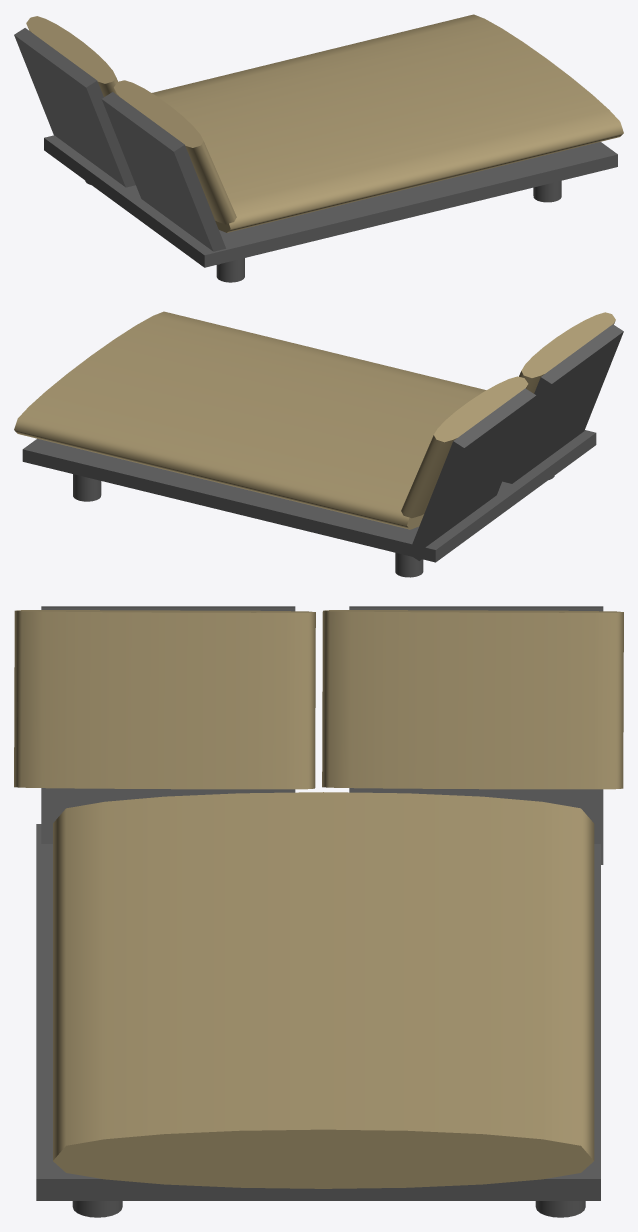
File: Bed.fbx
The picture shows the model from 3 angles, top to bottom: view 1: azimuth 30°, elevation 25°; view 2: azimuth 150°, elevation 25°; view 3: azimuth 270°, elevation 25°; orthographic projection. The views are drawn at different scales.
Visible parts, largest first — view 1: pasted__pasted__pCylinder1 (×2), pCube1, pasted__pCube1, pasted__pasted__pCube1, pasted__pasted__pasted__pCylinder1, pasted__pasted__pasted__pCylinder2, pasted__pasted__pCylinder2; view 2: pasted__pasted__pCylinder1 (×2), pCube1, pasted__pasted__pCube1, pasted__pCube1, pasted__pasted__pasted__pCylinder1, pasted__pCylinder2, pasted__pasted__pCylinder2; view 3: pasted__pasted__pCylinder1 (×2), pasted__pasted__pasted__pCylinder1, pCube1, pasted__pCube1, pasted__pasted__pCube1.
Boxes of the visible parts, box(x1,y1,x2,y2) form: pasted__pasted__pCylinder1 (×2): box(114, 14, 623, 232); pCube1: box(44, 135, 617, 267); pasted__pCube1: box(101, 92, 225, 264); pasted__pasted__pCube1: box(14, 28, 135, 187); pasted__pasted__pasted__pCylinder1: box(26, 16, 117, 96); pasted__pasted__pasted__pCylinder2: box(216, 258, 244, 282); pasted__pasted__pCylinder2: box(533, 180, 561, 202); pasted__pasted__pCylinder1 (×2): box(14, 311, 615, 529); pCube1: box(22, 430, 596, 562); pasted__pasted__pCube1: box(408, 388, 536, 560); pasted__pCube1: box(502, 324, 623, 483); pasted__pasted__pasted__pCylinder1: box(401, 376, 528, 518); pasted__pCylinder2: box(73, 474, 101, 501); pasted__pasted__pCylinder2: box(395, 552, 423, 577); pasted__pasted__pCylinder1 (×2): box(14, 610, 594, 1188); pasted__pasted__pasted__pCylinder1: box(322, 610, 623, 789); pCube1: box(36, 824, 600, 1200); pasted__pCube1: box(41, 606, 295, 843); pasted__pasted__pCube1: box(349, 606, 603, 864).
Size of the model in its own units: 10.3 by 3.55 by 6.82.
